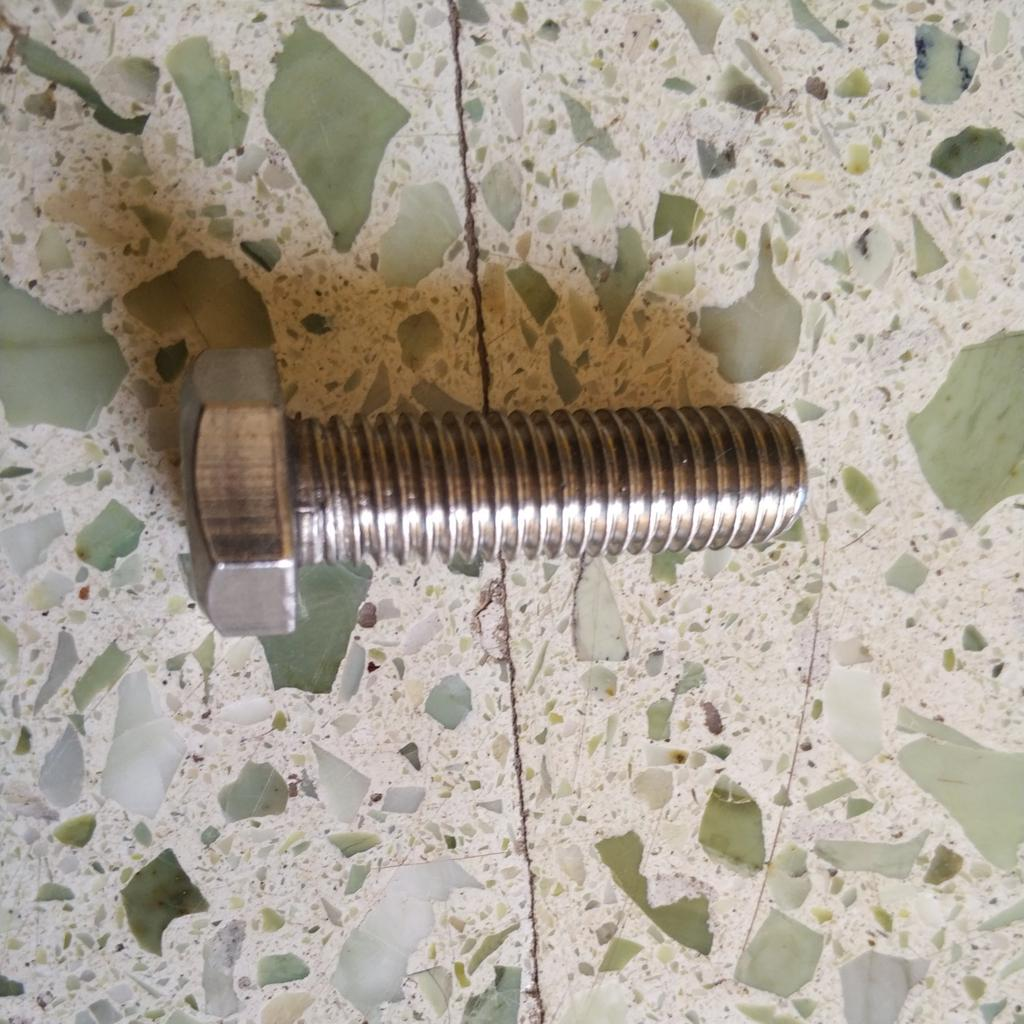screwtype2silver: (166, 341, 815, 652)
